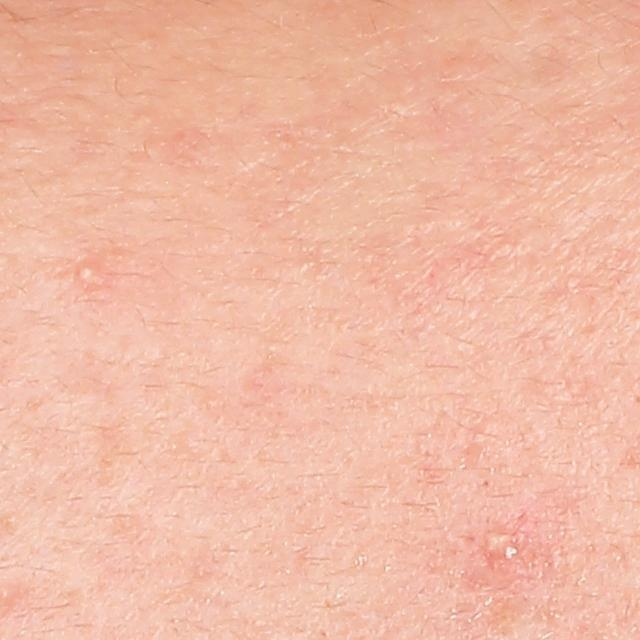pustule: (485, 525, 515, 559)
